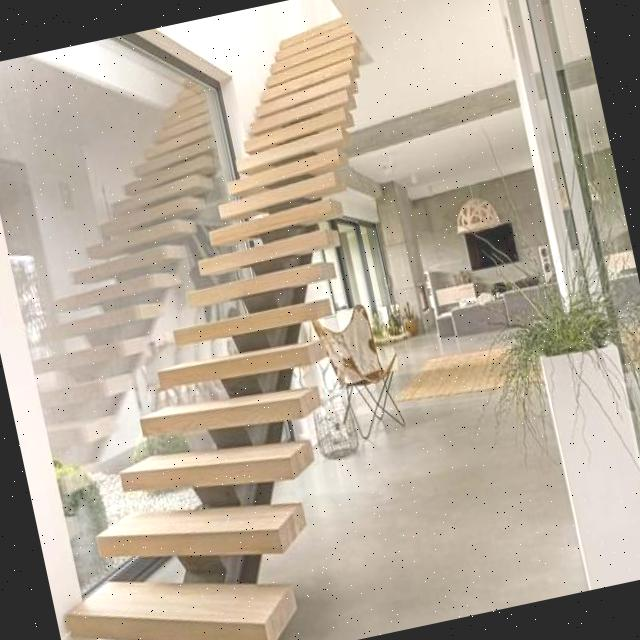stairs: (0, 9, 481, 640)
